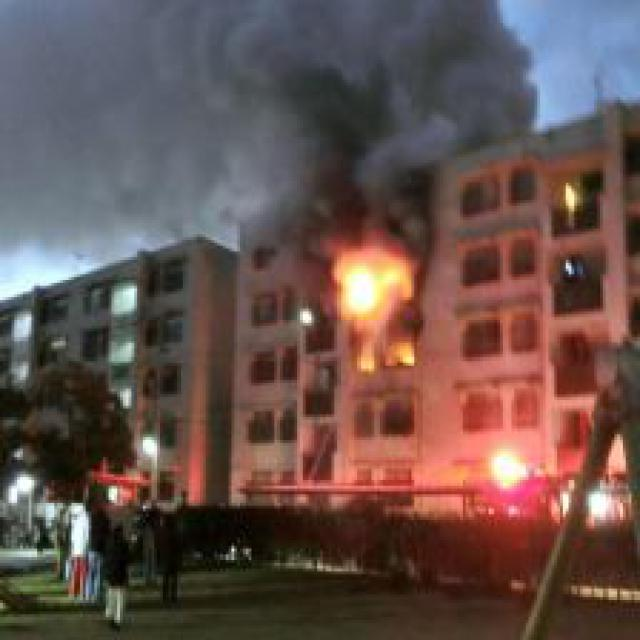fire: (328, 231, 428, 366)
